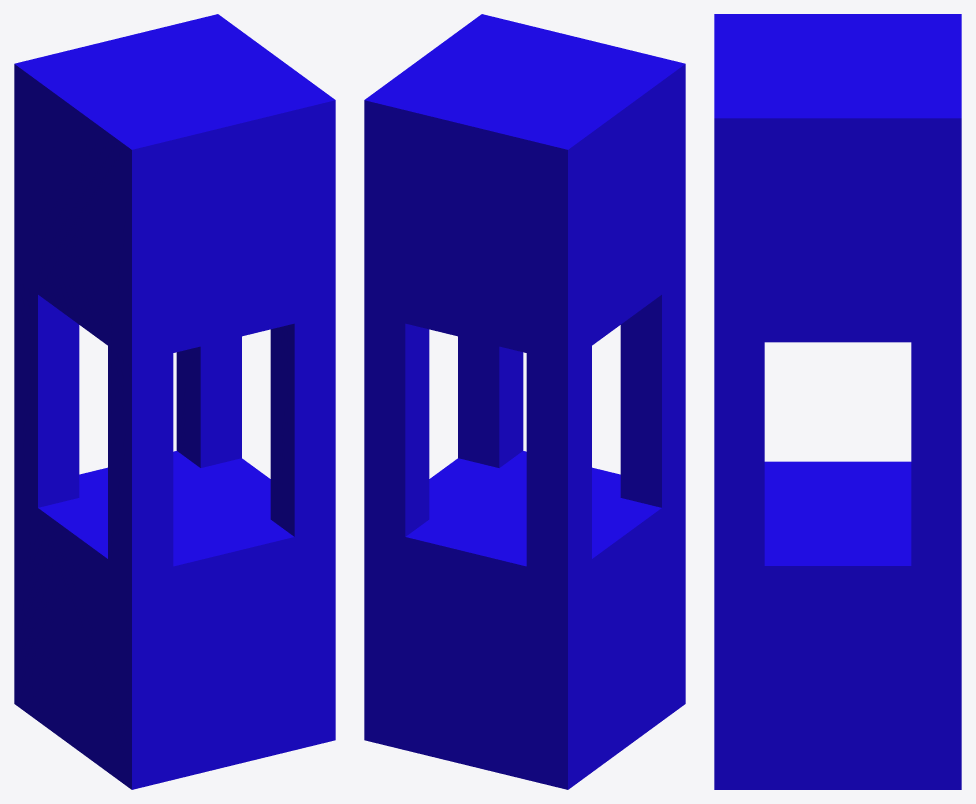
Rendered from kingBlue (3).glb.
The picture shows the model from 3 angles, left to right: view 1: azimuth 30°, elevation 25°; view 2: azimuth 150°, elevation 25°; view 3: azimuth 270°, elevation 25°; orthographic projection. The views are drawn at different scales.
Visible parts, largest first — view 1: Cube.010; view 2: Cube.010; view 3: Cube.010.
Part boxes in pixels (box(x1,y1,x2,y2)): Cube.010: box(14, 14, 335, 789); Cube.010: box(364, 14, 685, 789); Cube.010: box(714, 14, 961, 789).
Size of the model in its own units: 2.5 by 7.5 by 2.5.
